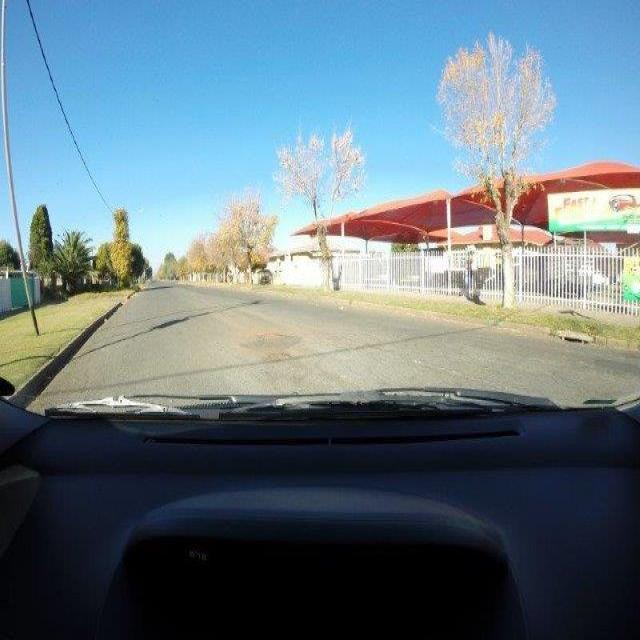jalan retak: (293, 317, 439, 376), (454, 338, 564, 381)
lubang: (252, 329, 289, 342), (258, 350, 290, 358)
